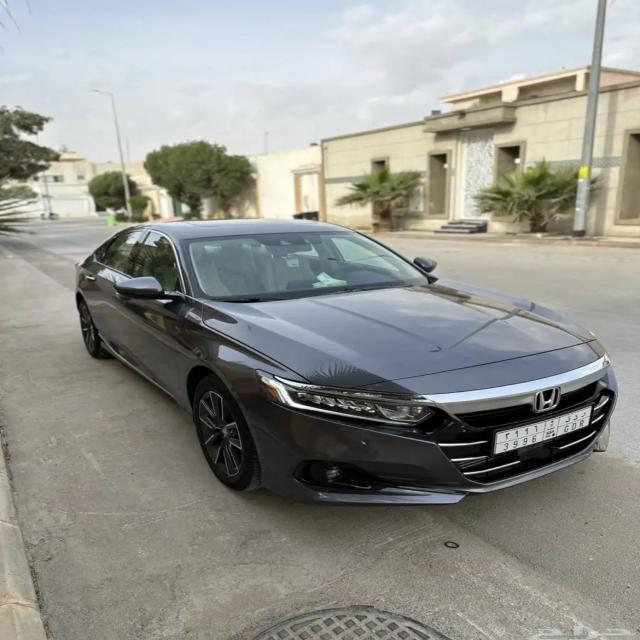license_plate: (494, 406, 596, 456)
